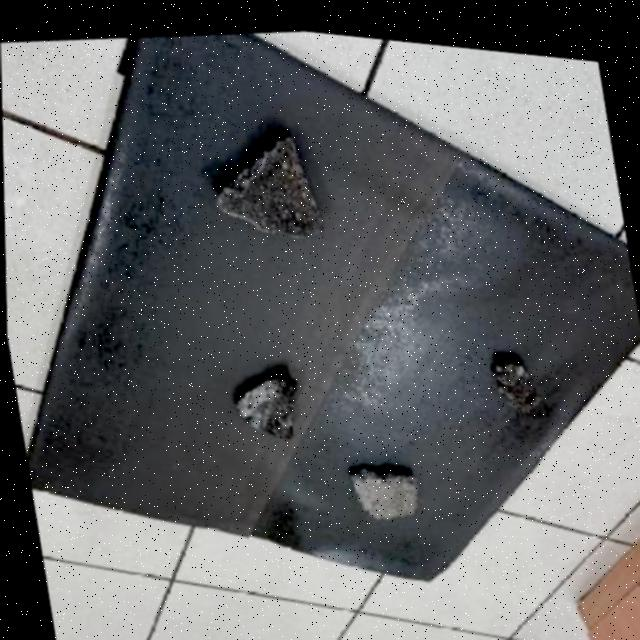Road Debris: (208, 124, 332, 247), (239, 374, 308, 442), (350, 453, 419, 518), (493, 342, 542, 399)
